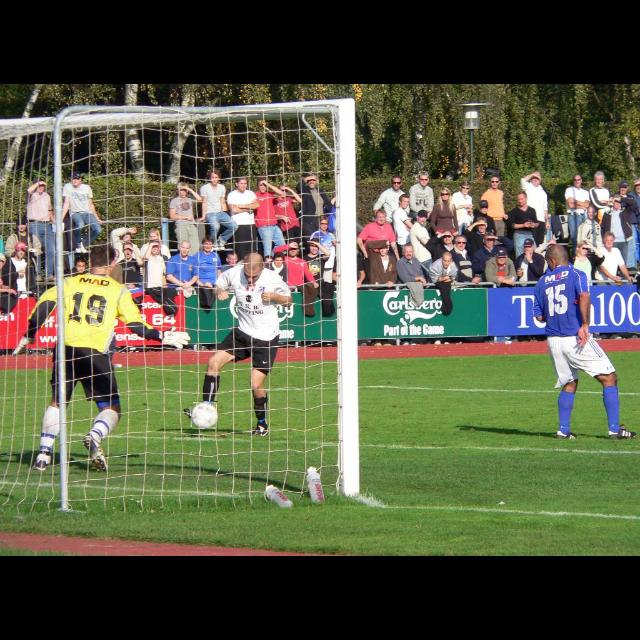Football: (190, 401, 218, 429)
